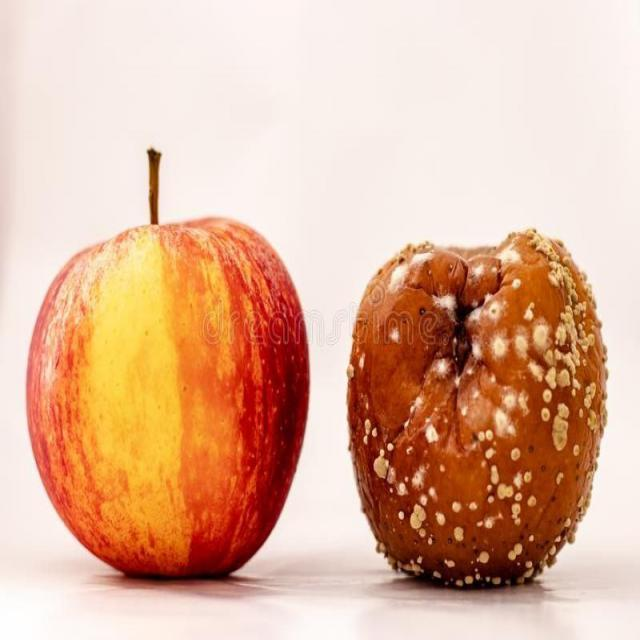Fresh Apple: (17, 220, 313, 585)
Rotten: (354, 228, 608, 582)
